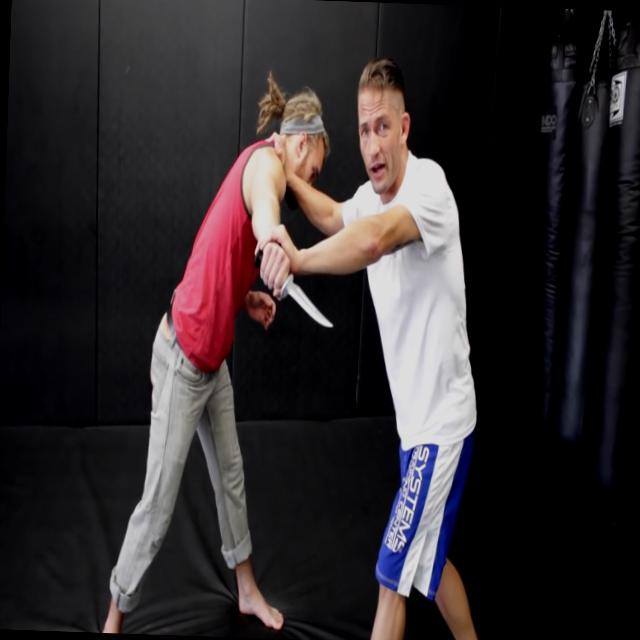knife: (248, 236, 338, 336)
